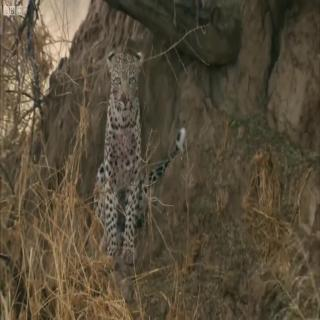Leopard: (81, 24, 181, 275)
